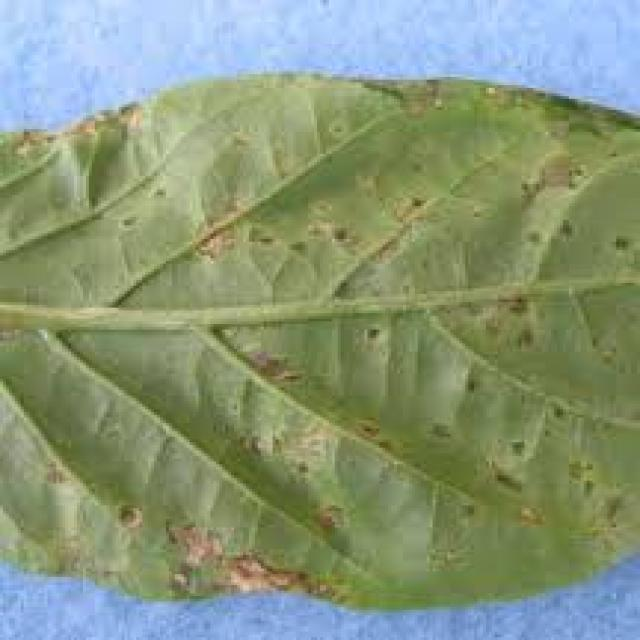bercak_daun: (0, 69, 640, 619)
